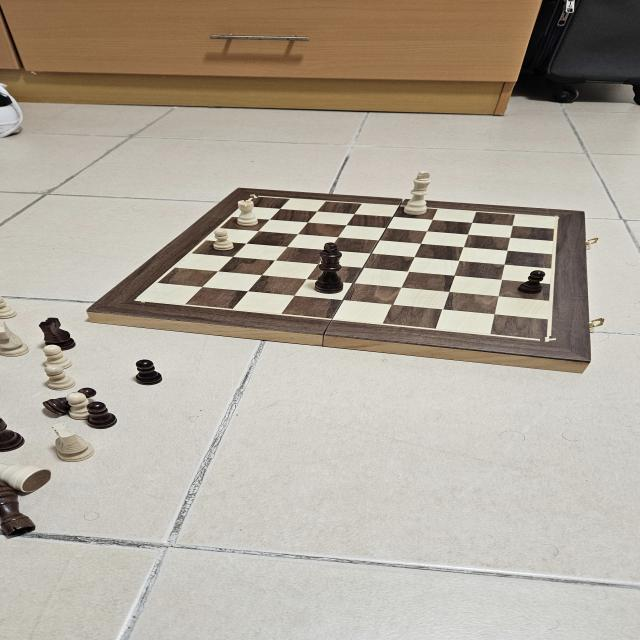chess-table-corners: (540, 336, 556, 344), (130, 298, 145, 303), (551, 215, 564, 220), (250, 194, 258, 198)
